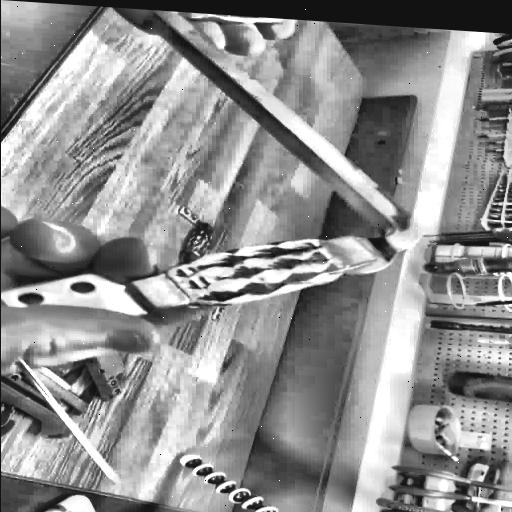busbar: (0, 10, 426, 324)
